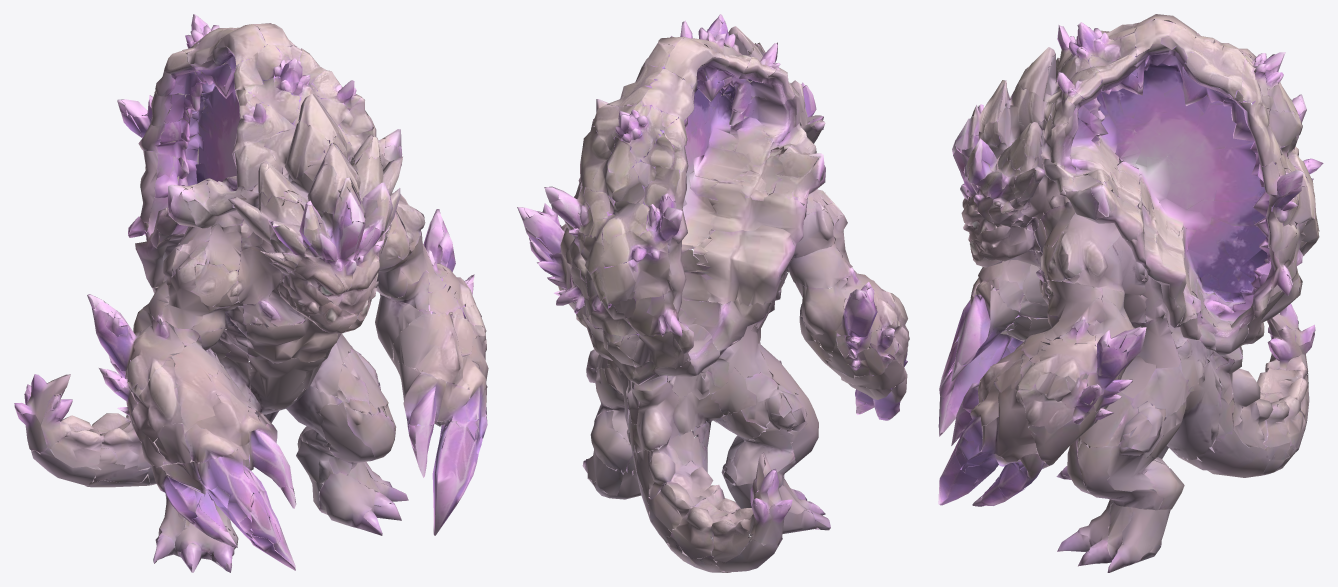
The picture shows the model from 3 angles, left to right: view 1: azimuth 30°, elevation 25°; view 2: azimuth 150°, elevation 25°; view 3: azimuth 270°, elevation 25°; orthographic projection. The views are drawn at different scales.
Visible parts, largest first — view 1: Mesh_0; view 2: Mesh_0; view 3: Mesh_0.
Boxes of the visible parts, x1,y1,x2,y2 form: Mesh_0: (14, 14, 488, 572); Mesh_0: (517, 14, 909, 572); Mesh_0: (938, 14, 1323, 572).
Size of the model in its own units: 1.52 by 1.9 by 1.34.
Materials: 1 (1 with a texture image).
